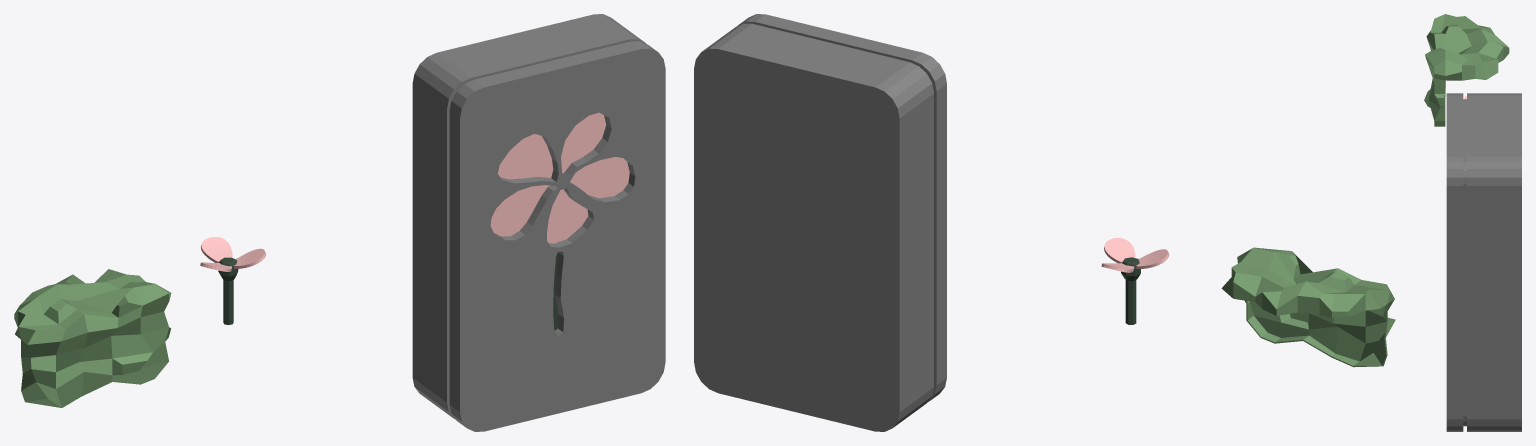
3 views of the same model, side by side, from view 1: azimuth 30°, elevation 25°; view 2: azimuth 150°, elevation 25°; view 3: azimuth 270°, elevation 25° (orthographic). The views are drawn at different scales.
Parts seen in each view (by area): view 1: 立方体.002, 立方体, 平面.001, 柱体; view 2: 立方体.002, 立方体, 平面.001, 柱体; view 3: 立方体.002, 立方体.
Boxes of the visible parts, left/top/right/bottom form: 立方体.002: left=412, top=14, right=665, bottom=431; 立方体: left=14, top=269, right=171, bottom=407; 平面.001: left=200, top=237, right=265, bottom=271; 柱体: left=218, top=257, right=238, bottom=324; 立方体.002: left=694, top=14, right=946, bottom=431; 立方体: left=1221, top=247, right=1395, bottom=367; 平面.001: left=1101, top=238, right=1169, bottom=272; 柱体: left=1121, top=257, right=1140, bottom=324; 立方体.002: left=1446, top=93, right=1521, bottom=431; 立方体: left=1424, top=14, right=1509, bottom=126.
Bounding box in the file's own units: 1576 × 800 × 260.
